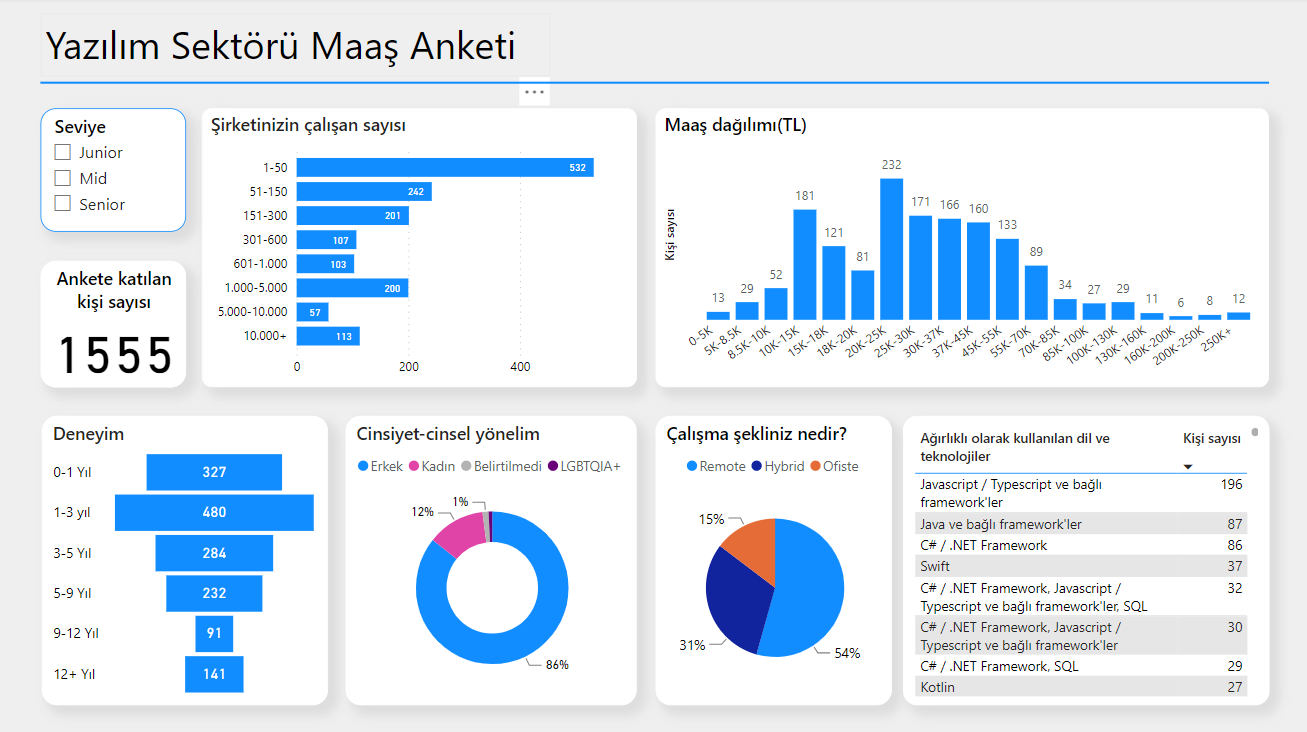

What the dashboard file says about the page in this screenshot:
{"tool":"powerbi","page":{"name":"Page 1","canvas":[1280,720],"ordinal":0},"visuals":[{"type":"pieChart","title":"Çalışma şekliniz nedir?","fields":{"Category":["Form Yanıtları 1.Çalışma şekliniz nedir?"],"Y":["Form Yanıtları 1.Measure"]},"box":[642.8,410.1,231.6,283.4],"z":0},{"type":"clusteredBarChart","title":"Şirketinizin çalışan sayısı ","fields":{"Category":["Form Yanıtları 1.Şirketinizin çalışan sayısı "],"Y":["Form Yanıtları 1.Kişi sayısı"]},"box":[199.3,108.2,425.6,273.1],"z":1000},{"type":"slicer","fields":{"Values":["Form Yanıtları 1.Seviyeniz nedir?"]},"box":[42,108.8,142.1,121.1],"z":2000},{"type":"donutChart","title":"Cinsiyet-cinsel yönelim","fields":{"Category":["Form Yanıtları 1.Cinsiyet ya da Cinsel Yönelim"],"Y":["Form Yanıtları 1.Measure"]},"box":[340.1,410.1,284.6,283.4],"z":3000},{"type":"columnChart","title":"Maaş dağılımı(TL)","fields":{"Category":["Form Yanıtları 1.Maaş /Aylık Türk Lirası Cinsinden"],"Y":["Form Yanıtları 1.Kişi sayısı"]},"box":[643.3,108.2,600.3,273.1],"z":4000},{"type":"funnel","title":"Deneyim","fields":{"Y":["Form Yanıtları 1.Measure"],"Category":["Form Yanıtları 1.Deneyim?"]},"box":[42.2,410.1,279.8,283.4],"z":5000},{"type":"card","title":"Ankete katılan kişi sayısı","fields":{"Values":["Form Yanıtları 1.Kişi sayısı"]},"box":[42,258.3,142.1,123.6],"z":6000},{"type":"textbox","box":[42,16.1,498.1,60.6],"z":7000},{"type":"shape","box":[42,76.6,1201.4,13.6],"z":8000},{"type":"tableEx","fields":{"Values":["Form Yanıtları 1.Ağırlıklı olarak hangi dil ve teknolojileri kullanıyorsunuz?","Form Yanıtları 1.Kişi sayısı"]},"box":[885.2,410.1,358.2,283.4],"z":9000}]}

Visuals, with their boxes in screenshot pixels (x1, y1, x2, y2), scaled from the page's 1280x720 canvas onto the 1307x732 screenshot:
"Çalışma şekliniz nedir?" pieChart: <bbox>656, 417, 893, 705</bbox>
"Şirketinizin çalışan sayısı " clusteredBarChart: <bbox>204, 110, 638, 388</bbox>
slicer - Form Yanıtları 1.Seviyeniz nedir?: <bbox>43, 111, 188, 234</bbox>
"Cinsiyet-cinsel yönelim" donutChart: <bbox>347, 417, 638, 705</bbox>
"Maaş dağılımı(TL)" columnChart: <bbox>657, 110, 1270, 388</bbox>
"Deneyim" funnel: <bbox>43, 417, 329, 705</bbox>
"Ankete katılan kişi sayısı" card: <bbox>43, 263, 188, 388</bbox>
textbox: <bbox>43, 16, 551, 78</bbox>
shape: <bbox>43, 78, 1270, 92</bbox>
tableEx - Form Yanıtları 1.Ağırlıklı olarak hangi dil ve teknolojileri kullanıyorsunuz? x Form Yanıtları 1.Kişi sayısı: <bbox>904, 417, 1270, 705</bbox>
